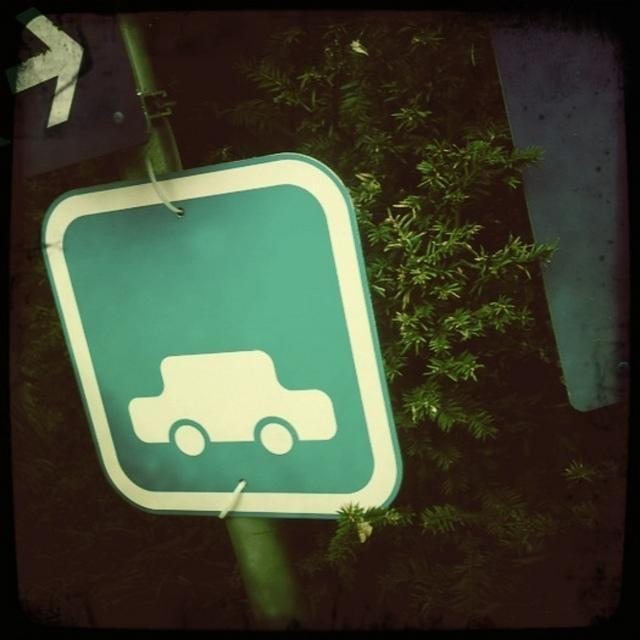car: (123, 348, 342, 460)
